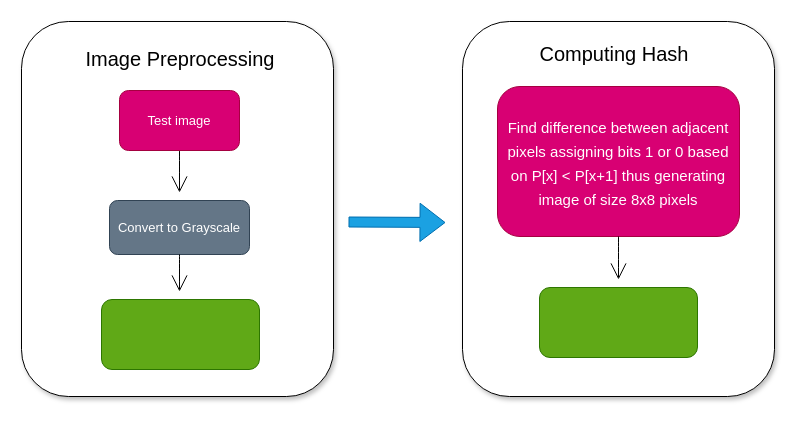
Image size: 798x421. Some labels were removed from this diagram. The shapes that lost their labels are listed below. From the top down, each one's centre as x and y in pixels, then its label:
At point 180,334: "Reduce Size to 9x8 pixels .i.e 72 pixels".
At point 618,322: "Calculate Hash of generated image".
